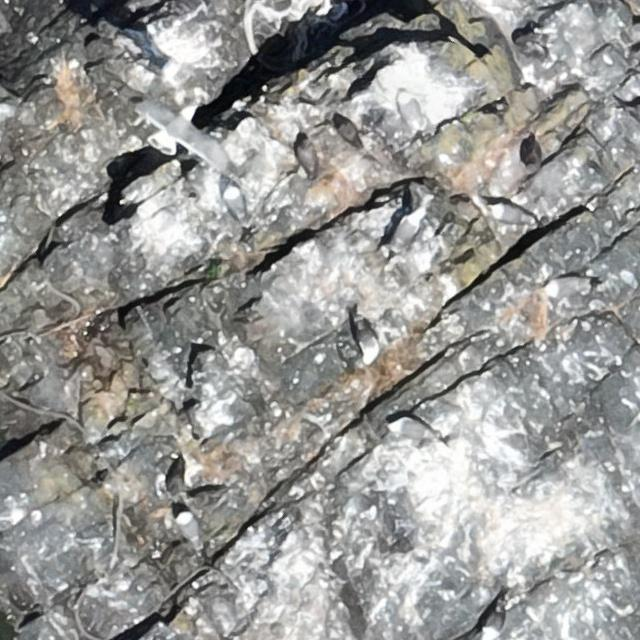F: (142, 101, 245, 179)
umineko: (354, 310, 380, 370), (392, 211, 424, 256), (390, 416, 441, 444), (396, 89, 428, 131), (546, 275, 596, 297), (493, 204, 524, 223), (179, 512, 199, 541), (484, 608, 503, 636), (225, 187, 242, 217), (144, 58, 172, 74)
